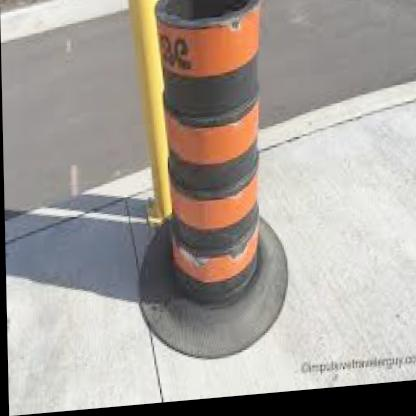obstacle: (151, 0, 277, 315)
